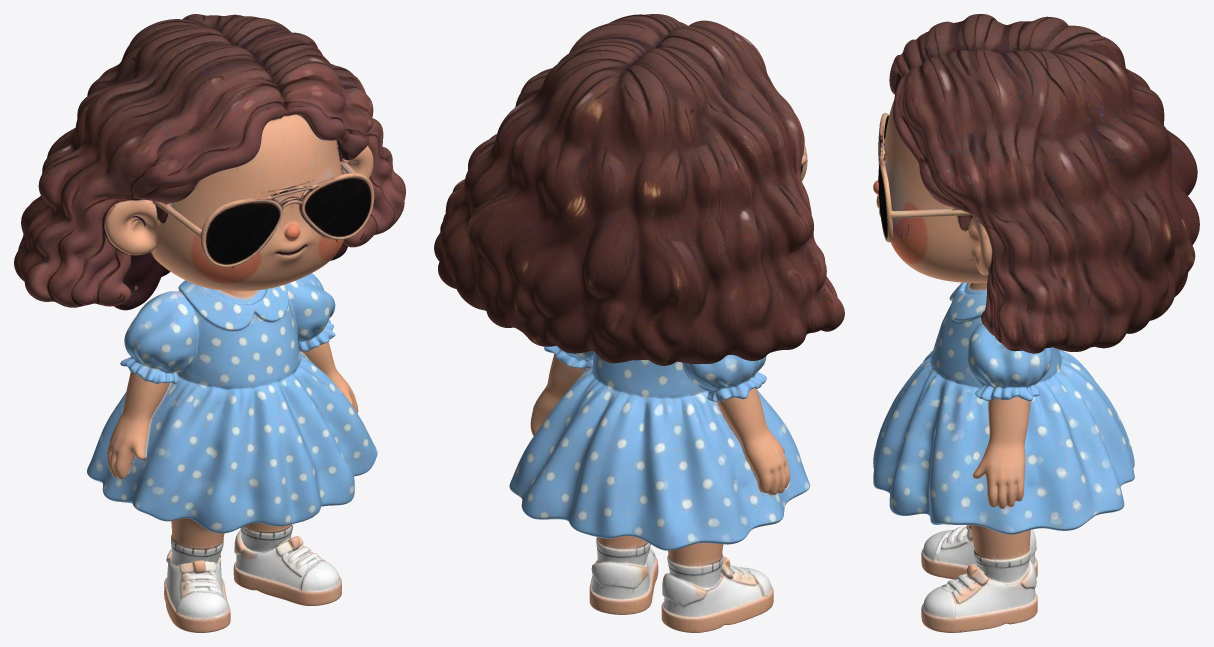
File: sofia-cool-glasses.glb
3 views of the same model, side by side, from view 1: azimuth 30°, elevation 25°; view 2: azimuth 150°, elevation 25°; view 3: azimuth 270°, elevation 25° (orthographic). The views are drawn at different scales.
Size of the model in its own units: 1.36 by 1.9 by 0.9992.
1 material, 1 textured.
